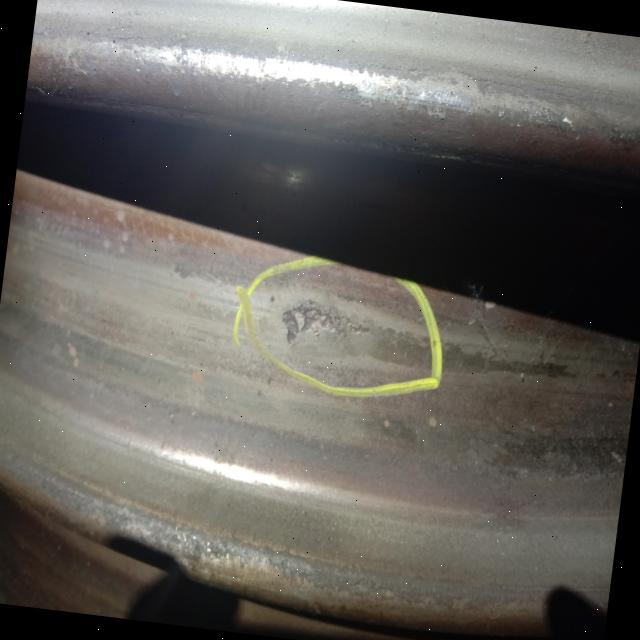Peeling: (280, 277, 395, 372)
